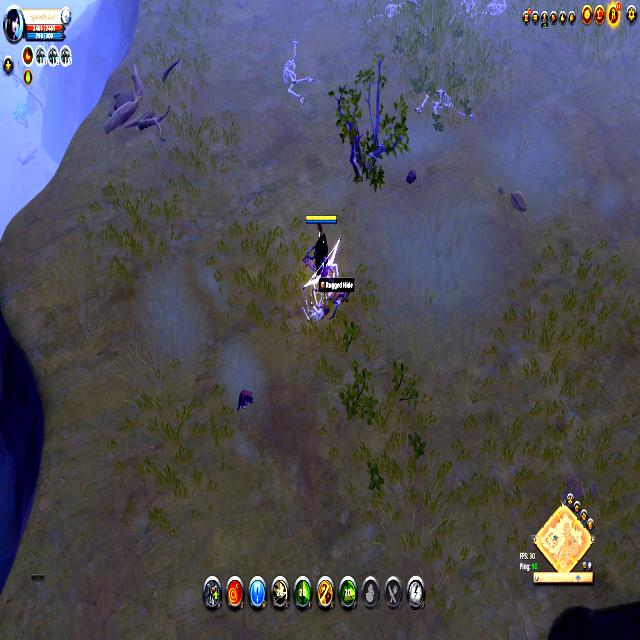mob: (302, 250, 340, 282)
red: (303, 210, 339, 282)
